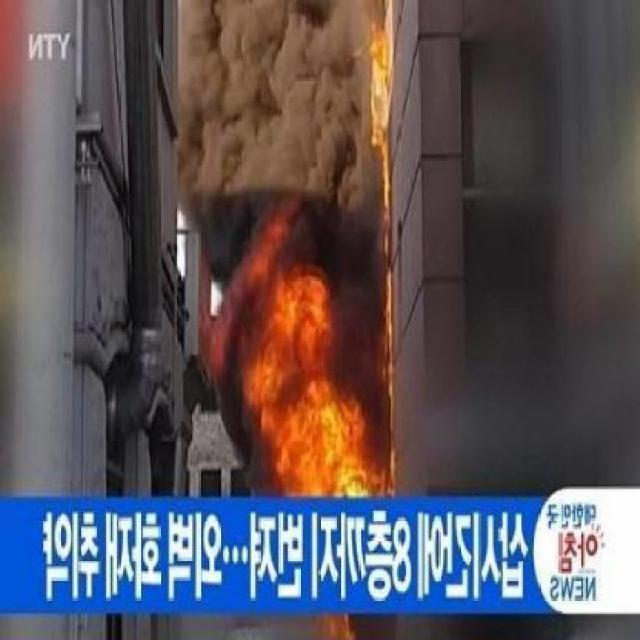Fire: (230, 213, 370, 497)
Smoke: (198, 2, 366, 175)
